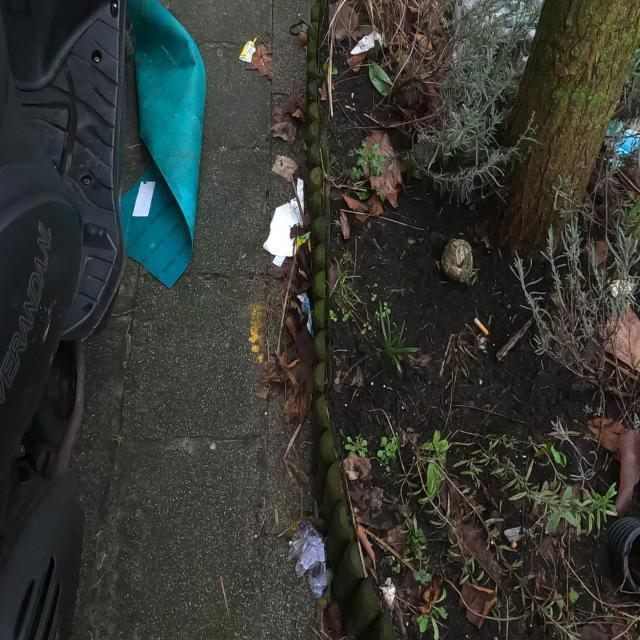Paper: (262, 176, 304, 257), (132, 181, 156, 217), (350, 30, 384, 54)
Plastic: (286, 519, 334, 601), (296, 291, 314, 338), (238, 36, 258, 63), (296, 230, 311, 256)
